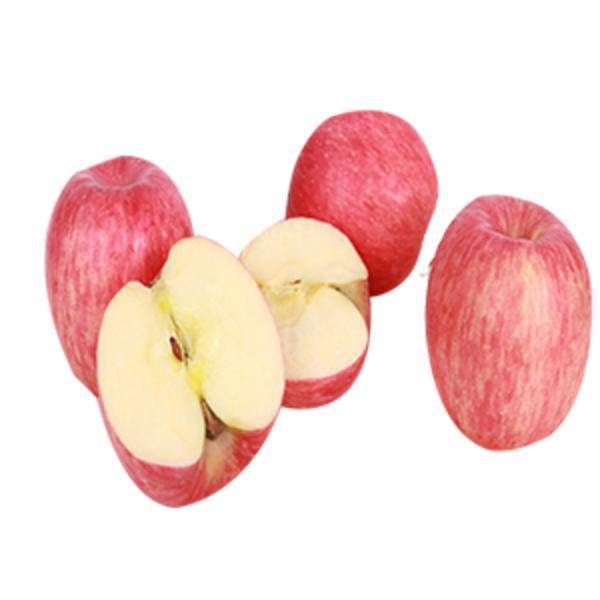apple: (424, 192, 592, 454), (41, 155, 200, 415), (293, 112, 443, 295)
